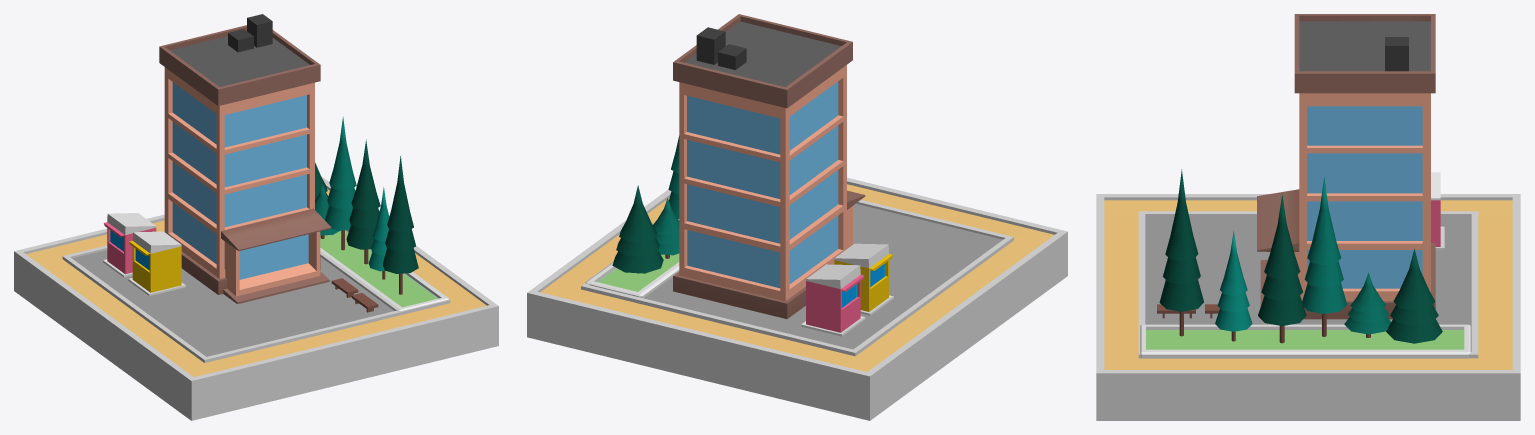
Rendered from house1.fbx.
3 renders of one model, left to right at view 1: azimuth 30°, elevation 25°; view 2: azimuth 150°, elevation 25°; view 3: azimuth 270°, elevation 25°, orthographic. The views are drawn at different scales.
Visible parts, largest first — view 1: House1; view 2: House1; view 3: House1.
Part boxes in pixels (x1=…): House1: x1=14, y1=14, x2=498, y2=420; House1: x1=527, y1=14, x2=1067, y2=420; House1: x1=1096, y1=14, x2=1520, y2=420.
Size of the model in its own units: 200 by 163 by 200.
1 material, 1 textured.
